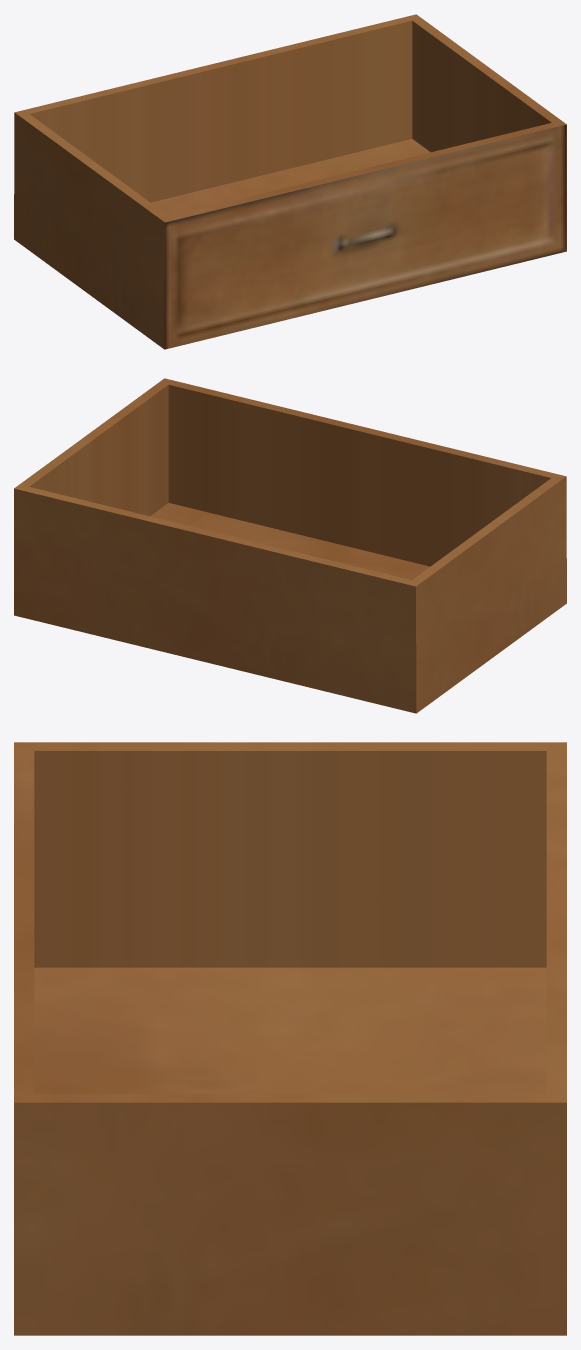
The model's file is Chest_drawers_01_005-col.glb.
3 renders of one model, top to bottom at view 1: azimuth 30°, elevation 25°; view 2: azimuth 150°, elevation 25°; view 3: azimuth 270°, elevation 25°, orthographic. The views are drawn at different scales.
Parts seen in each view (by area): view 1: Chest_drawers_01.005-col; view 2: Chest_drawers_01.005-col; view 3: Chest_drawers_01.005-col.
Boxes of the visible parts, <box> form: Chest_drawers_01.005-col: <box>14,14,566,349</box>; Chest_drawers_01.005-col: <box>14,378,566,713</box>; Chest_drawers_01.005-col: <box>14,742,566,1335</box>.
Bounding box in the file's own units: 0.8454 × 0.2549 × 0.5479.
Materials: 1 (1 with a texture image).
